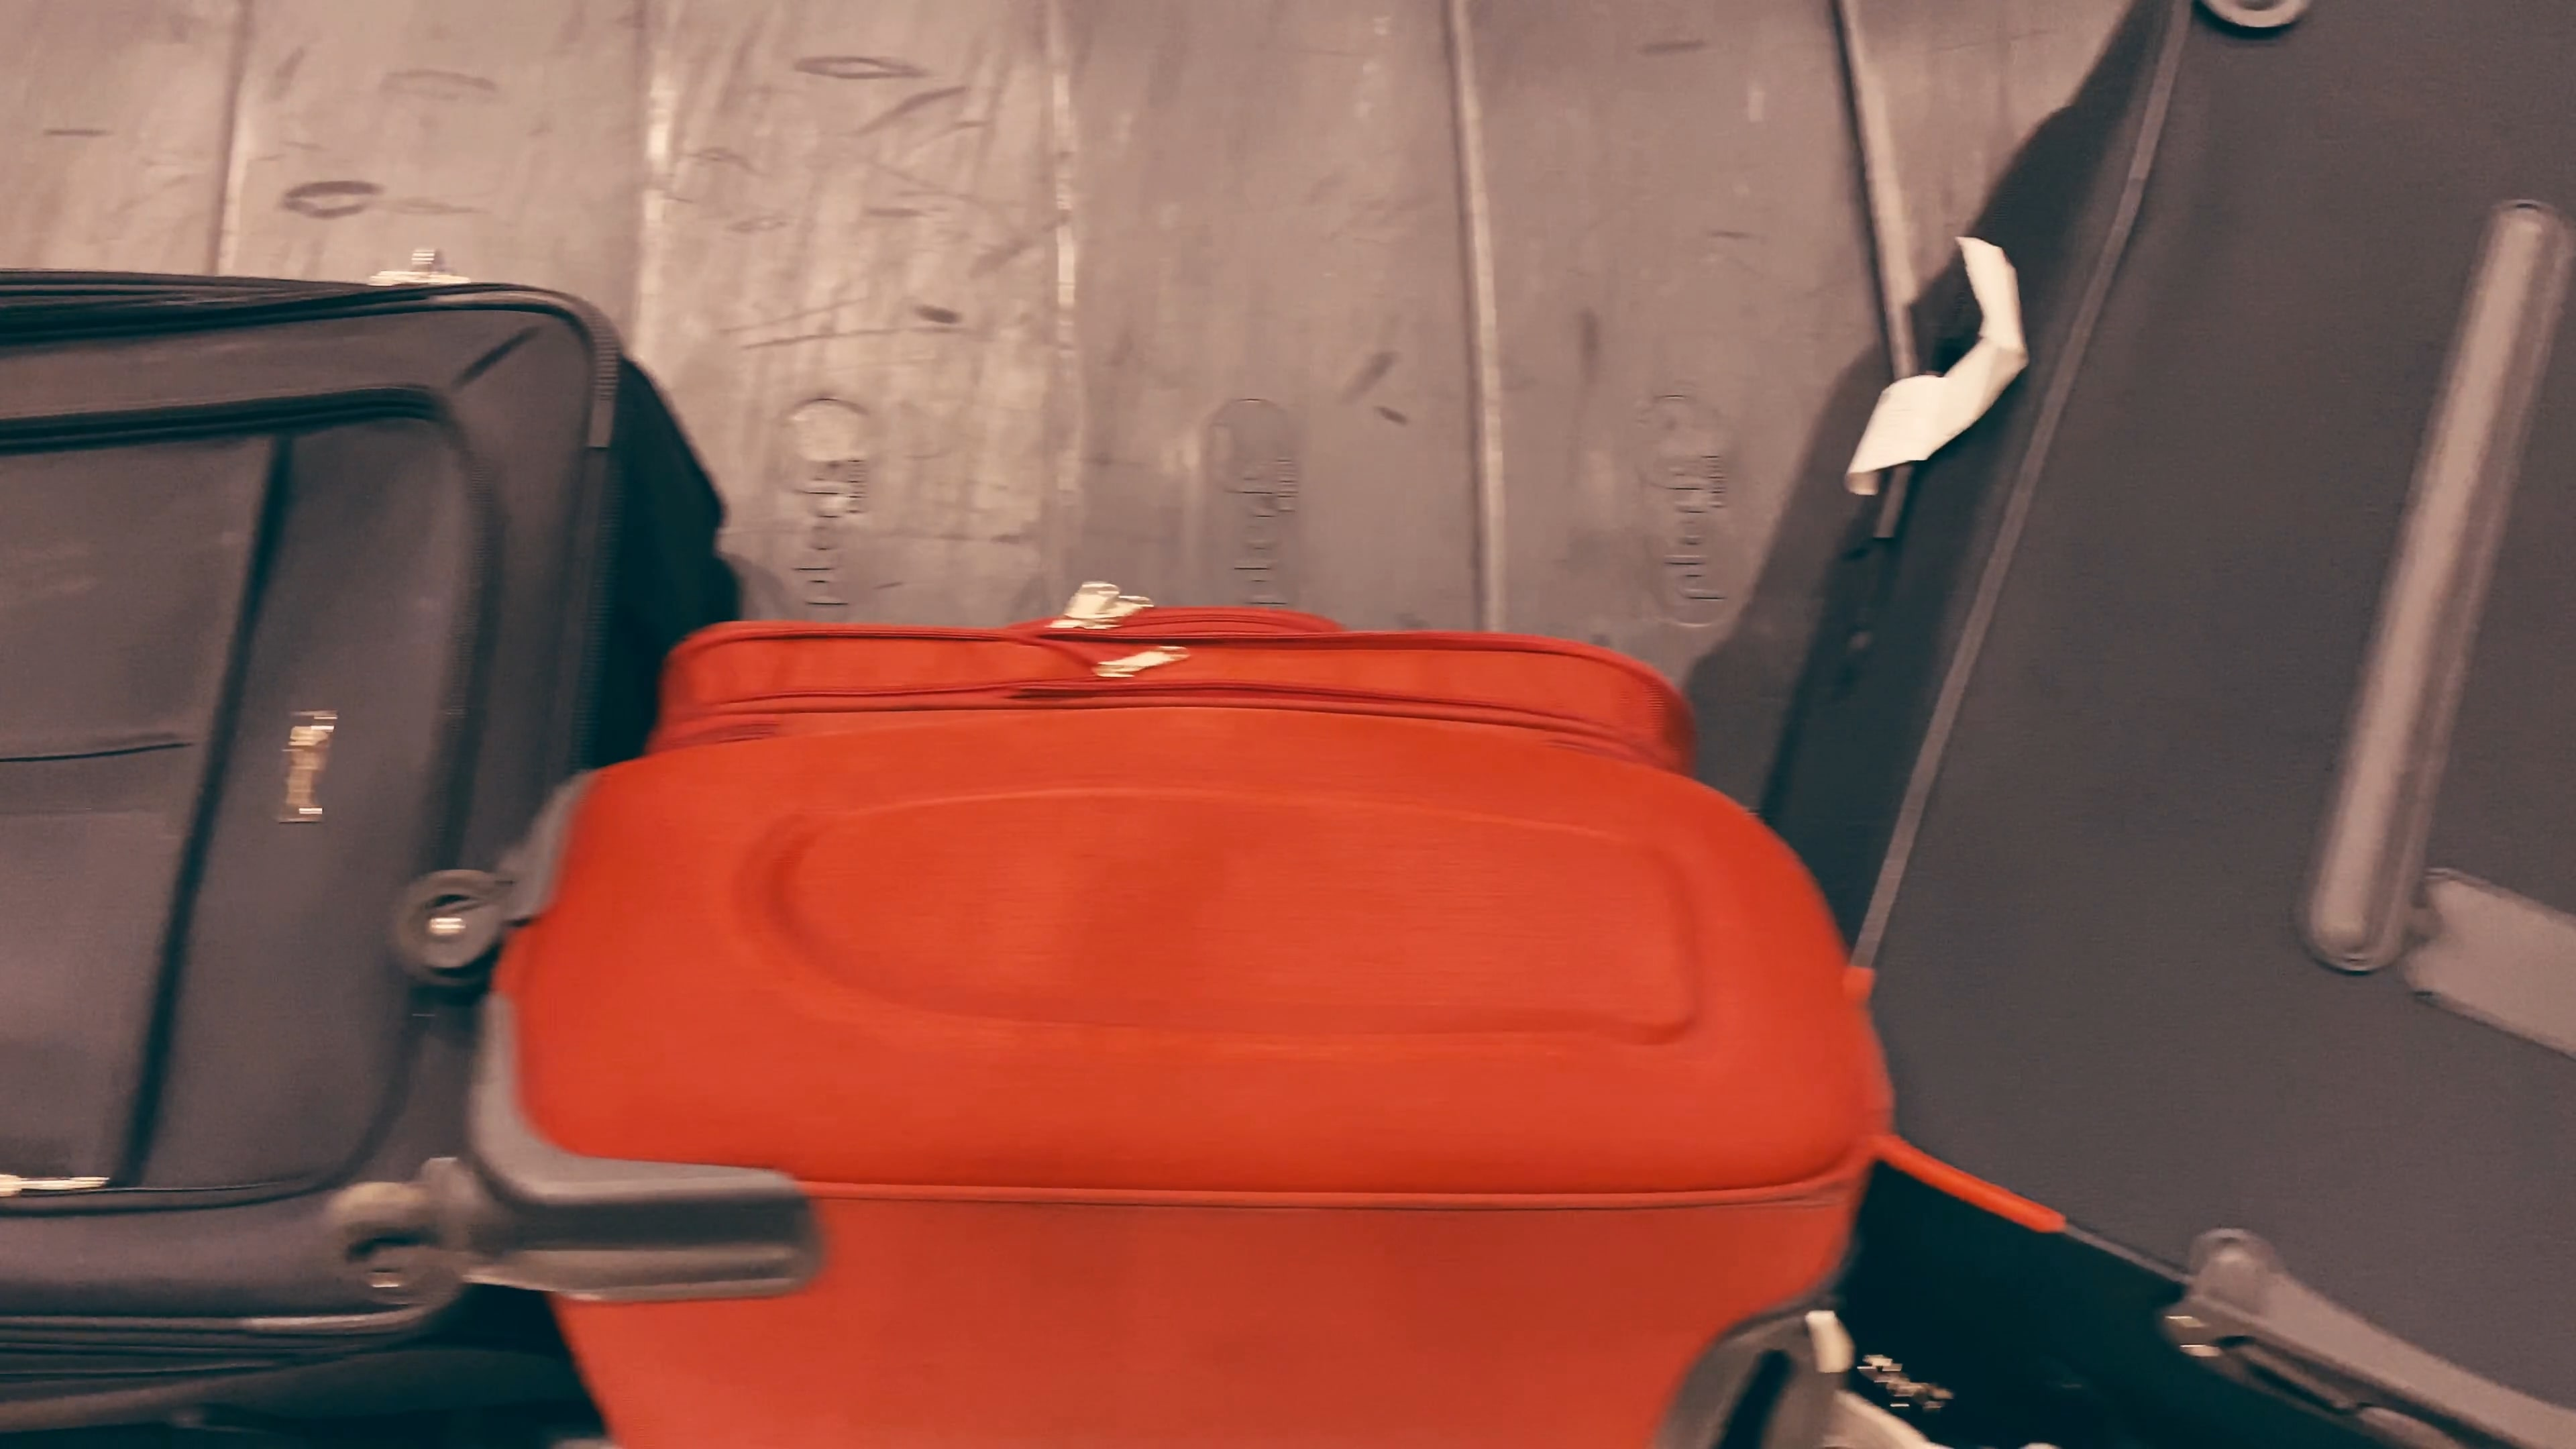baggage: (386, 616, 1939, 1449)
